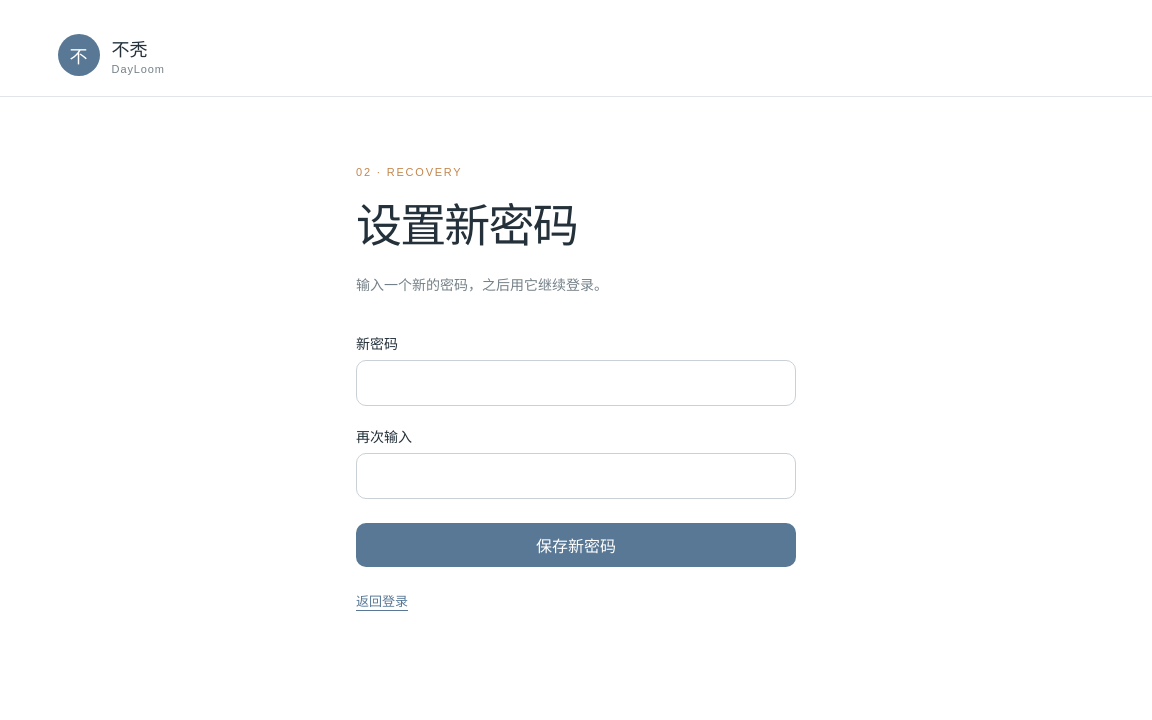
Test case: ResetPasswordPage › validates matching passwords during a recovery session
This screenshot has width=1152, height=720.
Expected: the heading "设置新密码" is shown, [356, 200, 577, 252]
Type "new-pass-123" into the password field labelled "新密码" at (576, 383), box [356, 360, 796, 406]
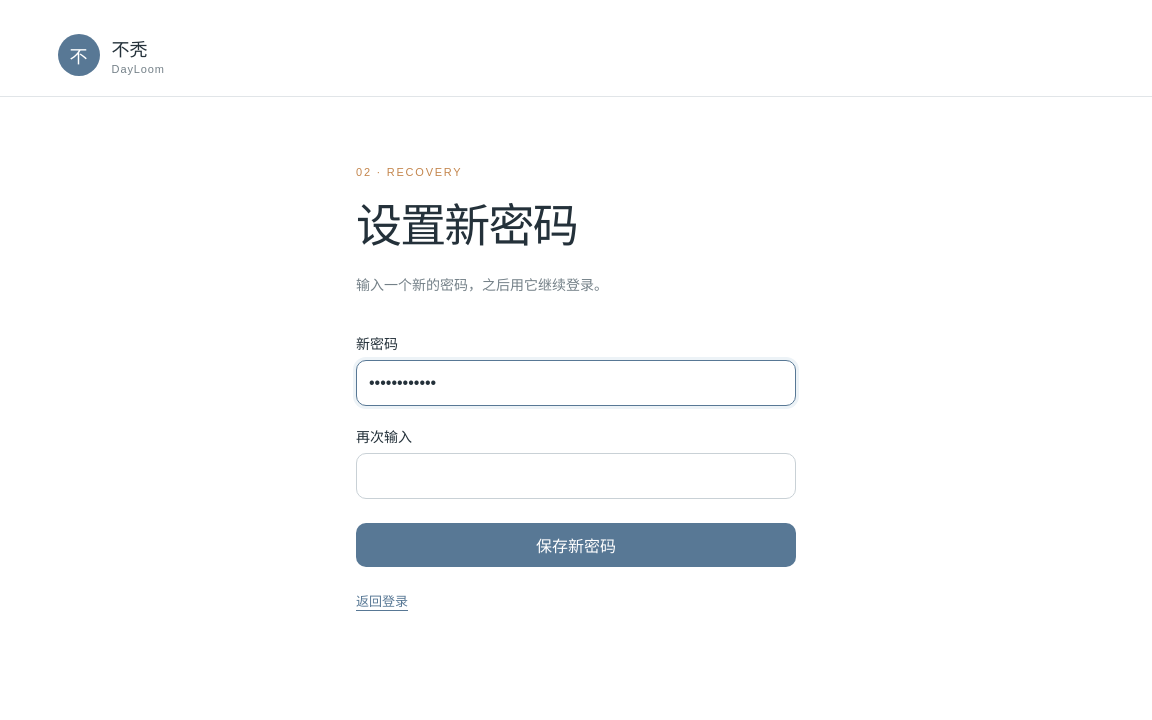
Type "different-pass" into the password field labelled "再次输入" at (576, 476), box [356, 453, 796, 499]
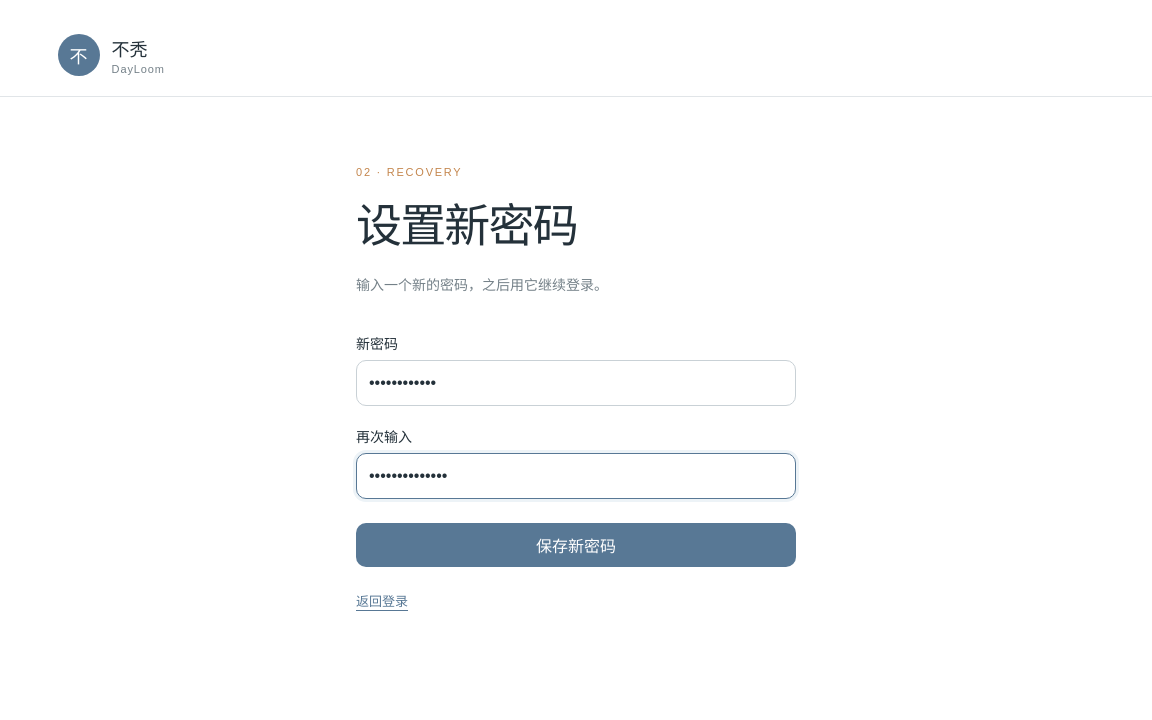
Click the button "保存新密码" at (576, 545), box [356, 523, 796, 567]
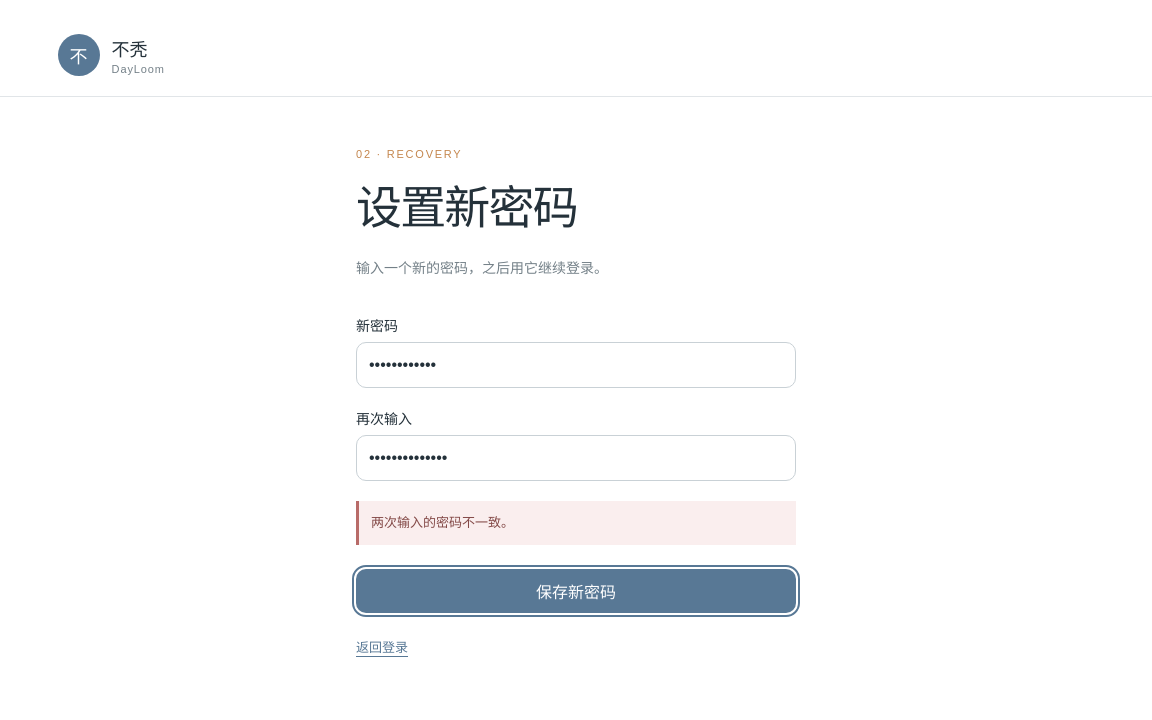
Now the text "两次输入的密码不一致。" is shown, box [356, 501, 796, 545]
